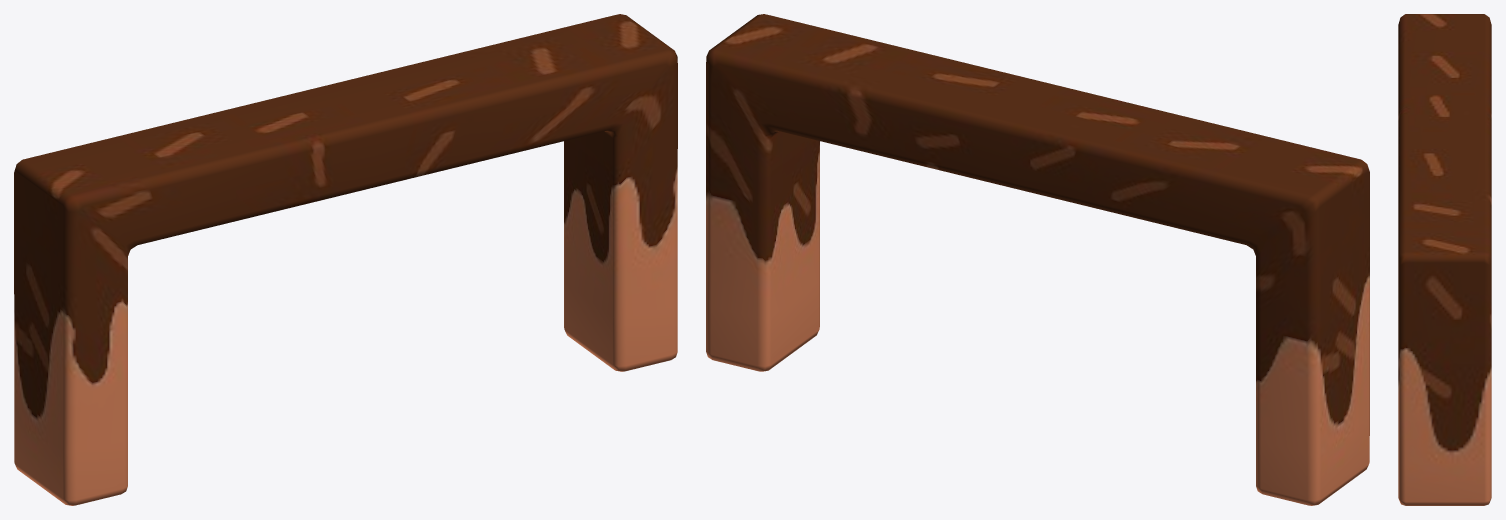
The picture shows the model from 3 angles, left to right: view 1: azimuth 30°, elevation 25°; view 2: azimuth 150°, elevation 25°; view 3: azimuth 270°, elevation 25°; orthographic projection. The views are drawn at different scales.
Visible parts, largest first — view 1: shape1_3; view 2: shape1_3; view 3: shape1_3.
Boxes of the visible parts, x1,y1,x2,y2 form: shape1_3: [14, 14, 677, 505]; shape1_3: [706, 14, 1369, 505]; shape1_3: [1398, 14, 1491, 505].
Size of the model in its own units: 31 by 15 by 5.
